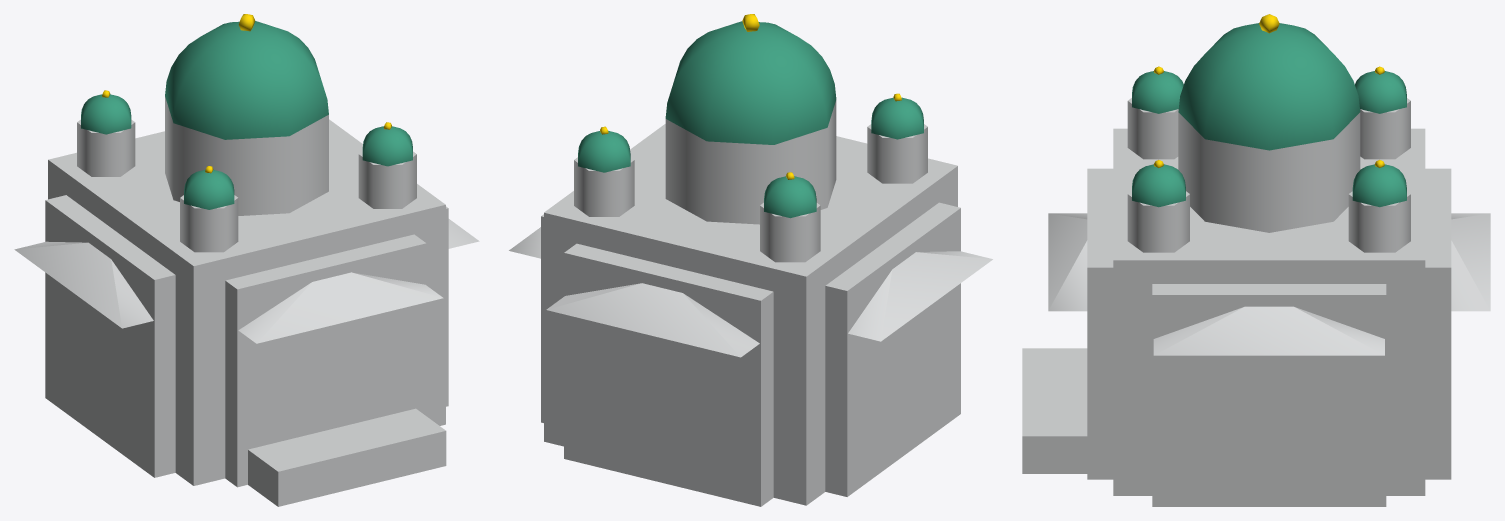
Rendered from finland.glb.
The picture shows the model from 3 angles, left to right: view 1: azimuth 30°, elevation 25°; view 2: azimuth 150°, elevation 25°; view 3: azimuth 270°, elevation 25°; orthographic projection. The views are drawn at different scales.
Visible parts, largest first — view 1: HelsinkiCathedral, MainCathedralBlock; view 2: HelsinkiCathedral, MainCathedralBlock; view 3: HelsinkiCathedral, MainCathedralBlock.
Part boxes in pixels (x1,y1,x2,y2): HelsinkiCathedral: (14,14,479,506); MainCathedralBlock: (48,119,445,485); HelsinkiCathedral: (509,14,992,506); MainCathedralBlock: (544,124,957,505); HelsinkiCathedral: (1022,14,1490,506); MainCathedralBlock: (1113,128,1425,495).
Bounding box in the file's own units: 3.4 × 3.53 × 3.6.
